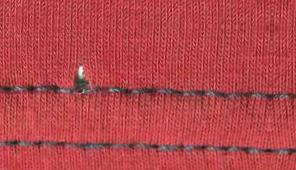hole: (69, 62, 92, 87)
